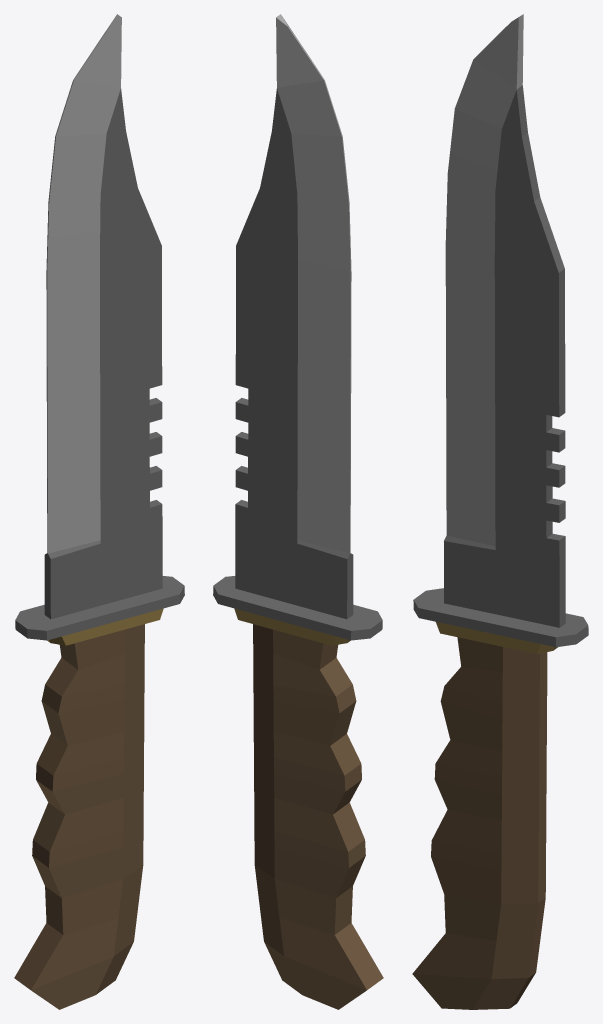
The model's file is knife.glb.
3 renders of one model, left to right at view 1: azimuth 30°, elevation 25°; view 2: azimuth 150°, elevation 25°; view 3: azimuth 330°, elevation 25°, orthographic. The views are drawn at different scales.
Visible parts, largest first — view 1: Knife; view 2: Knife; view 3: Knife.
Part boxes in pixels (bbox=[...]): Knife: bbox=[14, 14, 184, 1009]; Knife: bbox=[213, 14, 383, 1009]; Knife: bbox=[412, 14, 588, 1009].
Bounding box in the file's own units: 0.2654 × 1.56 × 0.0778.
